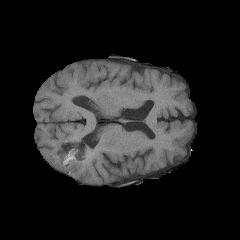glioma: (54, 138, 92, 178)
